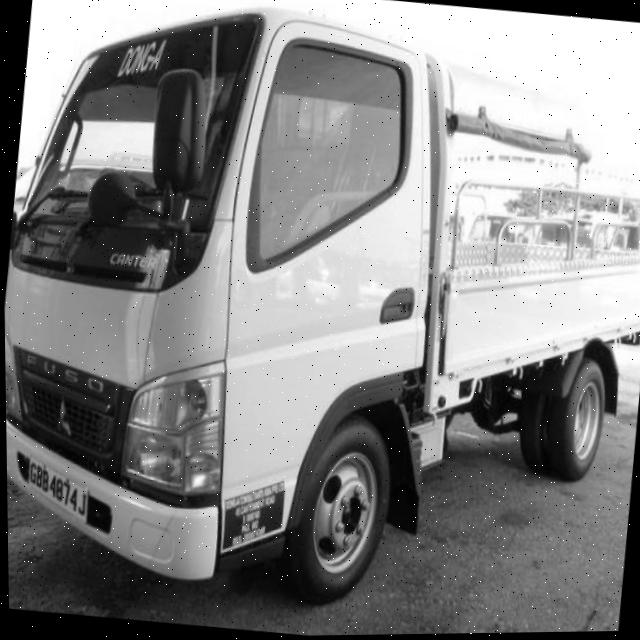truck: (1, 1, 496, 622)
